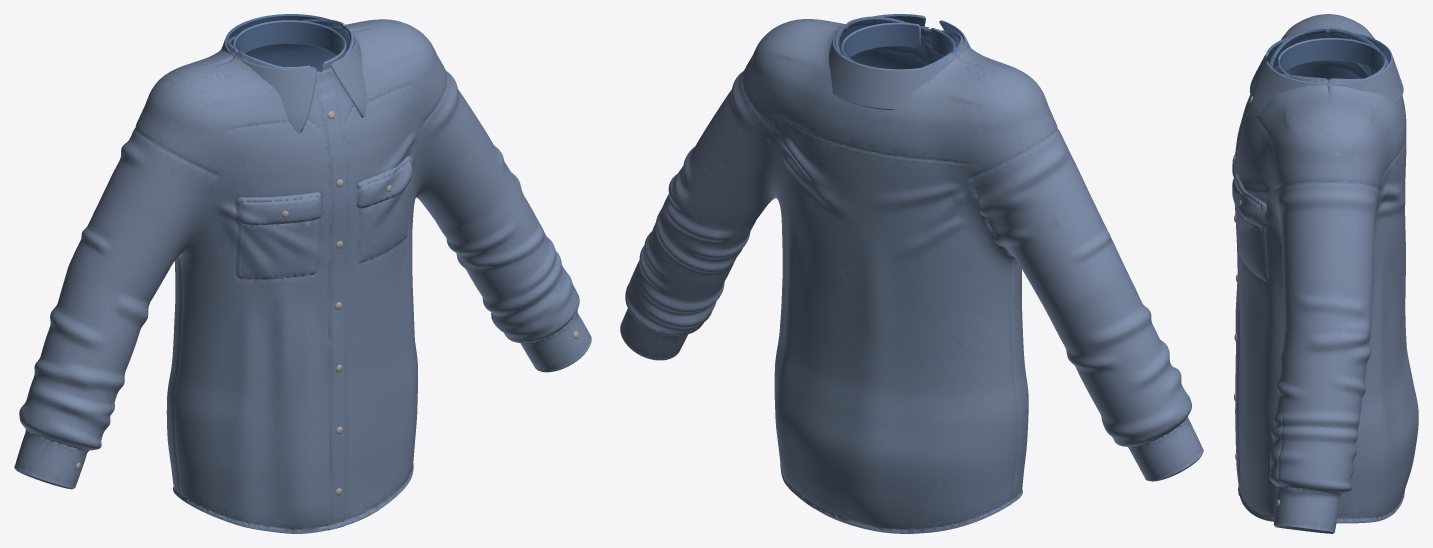
The model's file is 06_camisa_vaquera_pbr.glb.
3 renders of one model, left to right at view 1: azimuth 30°, elevation 25°; view 2: azimuth 150°, elevation 25°; view 3: azimuth 270°, elevation 25°, orthographic. The views are drawn at different scales.
Visible parts, largest first — view 1: Camiseta PBR; view 2: Camiseta PBR; view 3: Camiseta PBR.
Boxes of the visible parts, left/top/right/bottom form: Camiseta PBR: left=14, top=14, right=591, bottom=533; Camiseta PBR: left=620, top=14, right=1203, bottom=533; Camiseta PBR: left=1232, top=14, right=1418, bottom=533.
Size of the model in its own units: 1 by 0.7701 by 0.2959.
Materials: 2 (1 with a texture image).
